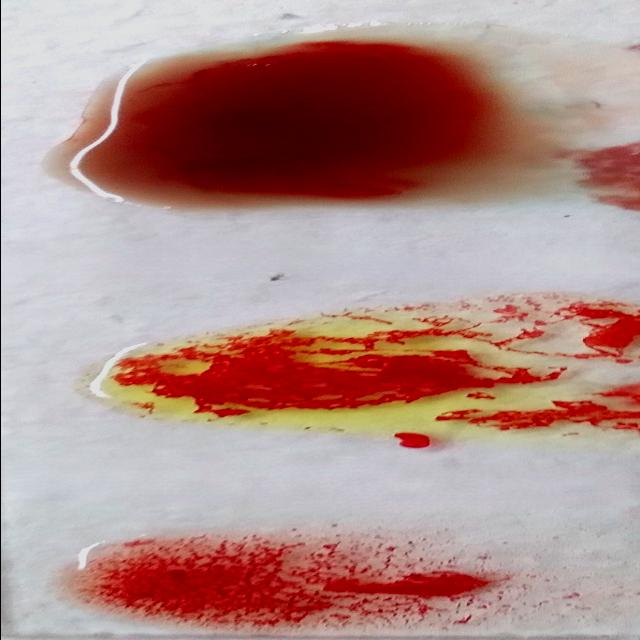B: (96, 295, 640, 440)
D: (85, 544, 602, 632)
